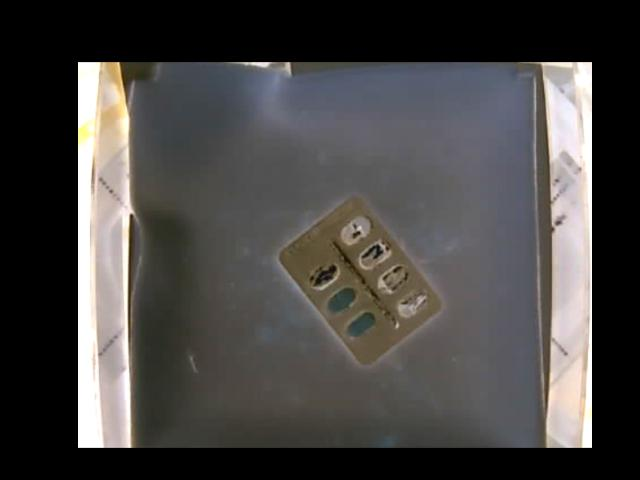Medicine: (277, 186, 439, 366)
